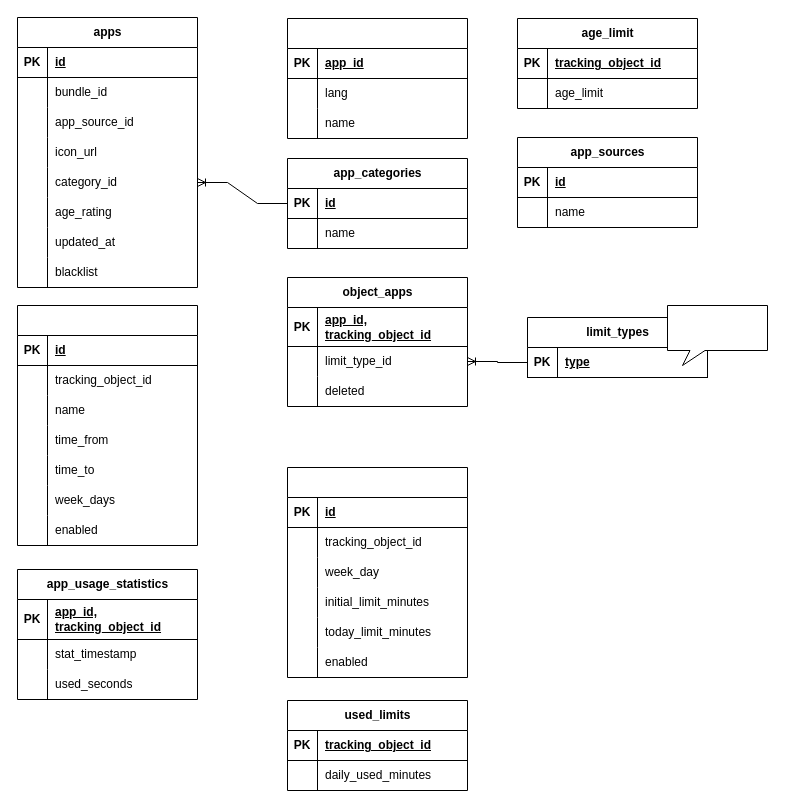
Image size: 785x808. Some labels were removed from this diagram. Here are the shapes that lost their labels. From the top down, the box of each, then its label:
(286, 18, 468, 138): apps_info
(666, 304, 768, 366): limited, unlimited, blocked
(16, 304, 198, 546): schedules
(286, 466, 468, 678): limits
